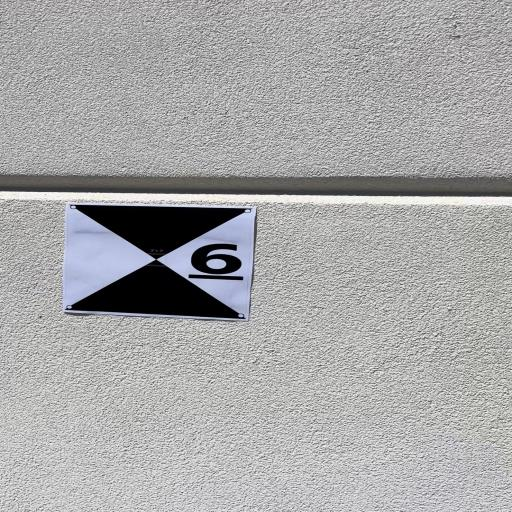target6: (61, 204, 257, 322)
